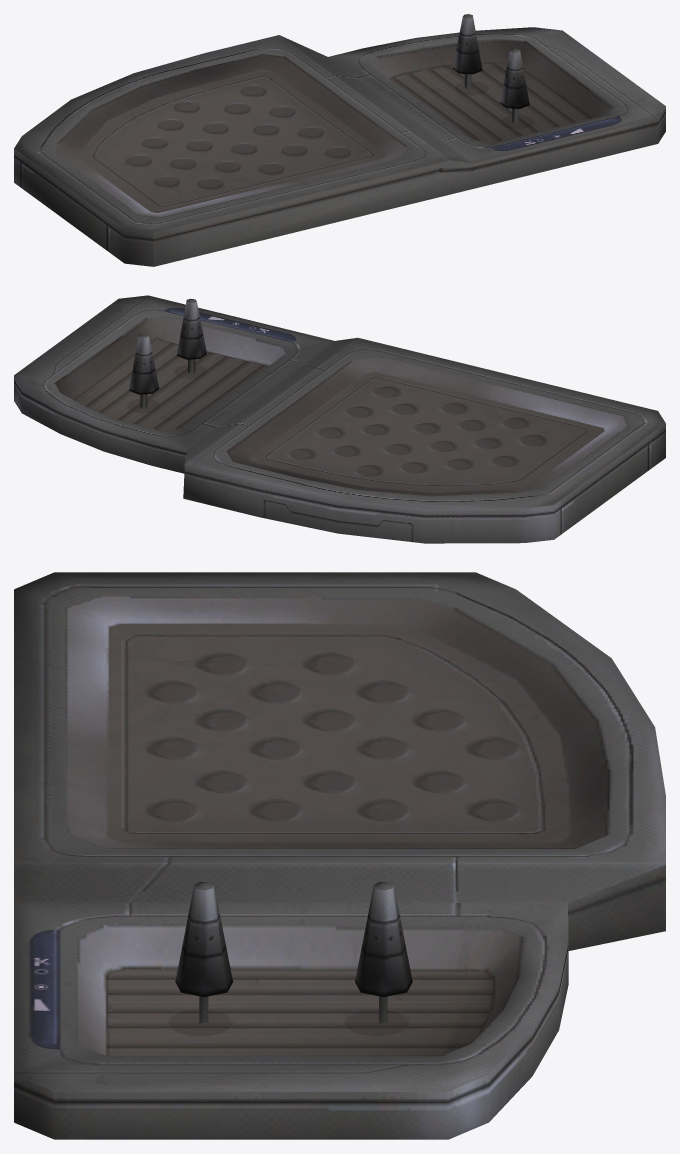
Rendered from bar2.glb.
The picture shows the model from 3 angles, top to bottom: view 1: azimuth 30°, elevation 25°; view 2: azimuth 150°, elevation 25°; view 3: azimuth 270°, elevation 25°; orthographic projection. The views are drawn at different scales.
Parts seen in each view (by area): view 1: Box04; view 2: Box04; view 3: Box04.
Part boxes in pixels (x1=…): Box04: x1=14, y1=14, x2=665, y2=266; Box04: x1=14, y1=295, x2=665, y2=543; Box04: x1=14, y1=572, x2=665, y2=1139.
Bounding box in the file's own units: 51.14 × 7.14 × 28.04.
Materials: 1 (1 with a texture image).
